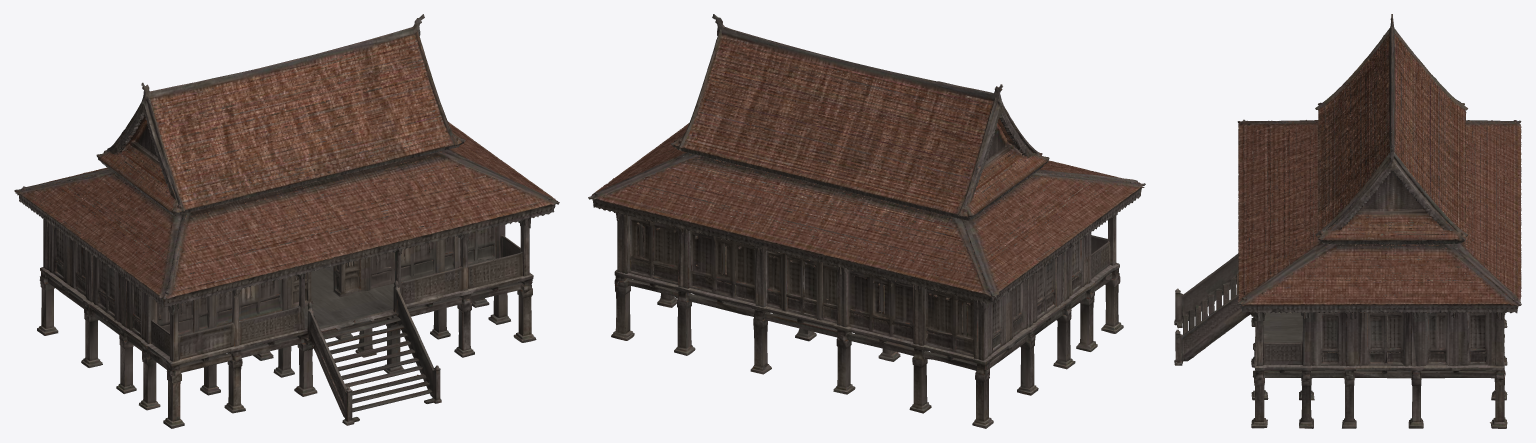
File: istana_satu.glb
3 views of the same model, side by side, from view 1: azimuth 30°, elevation 25°; view 2: azimuth 150°, elevation 25°; view 3: azimuth 270°, elevation 25° (orthographic). The views are drawn at different scales.
Visible parts, largest first — view 1: Meshy_AI_Elevated_Wooden_Herit_0813171751_texture.001; view 2: Meshy_AI_Elevated_Wooden_Herit_0813171751_texture.001; view 3: Meshy_AI_Elevated_Wooden_Herit_0813171751_texture.001.
Boxes of the visible parts, bbox=[...] form: Meshy_AI_Elevated_Wooden_Herit_0813171751_texture.001: bbox=[14, 14, 559, 428]; Meshy_AI_Elevated_Wooden_Herit_0813171751_texture.001: bbox=[588, 14, 1145, 428]; Meshy_AI_Elevated_Wooden_Herit_0813171751_texture.001: bbox=[1174, 14, 1521, 428].
Bounding box in the file's own units: 1.9 × 1.28 × 1.51.
1 material, 1 textured.
